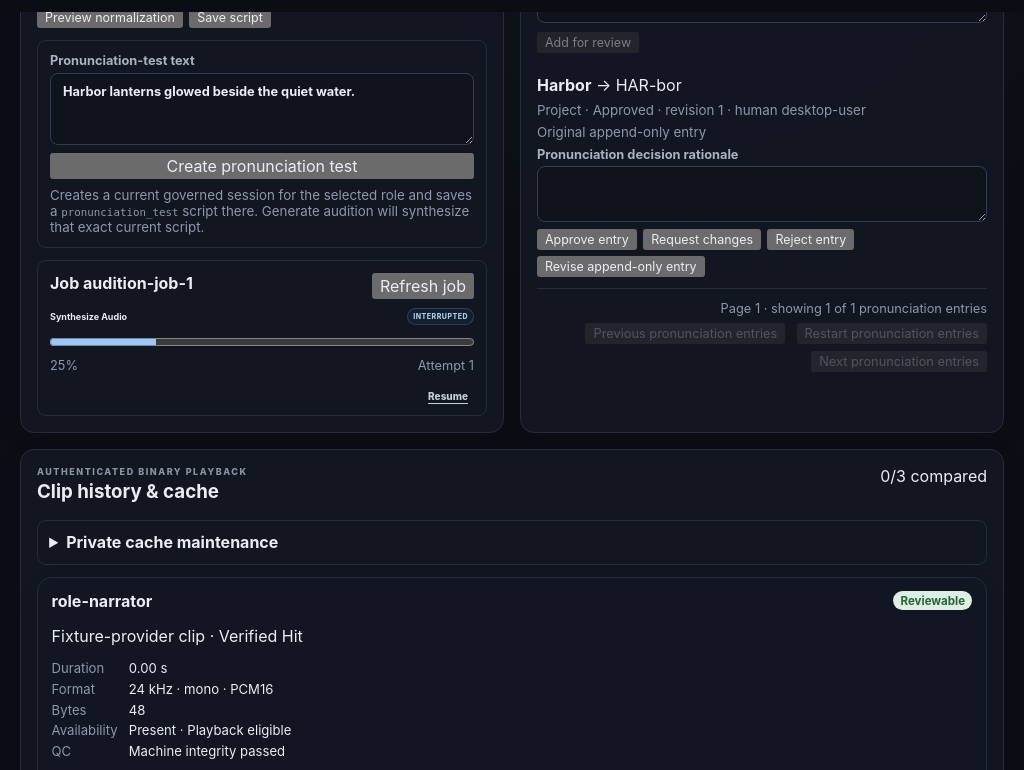
AuditionsWorkspace › renders current audition job evidence and handles resume with a bounded refresh
(page scrolled)
expect the text "Synthesize Audio" is shown: met, box top-left (50, 311), bottom-right (127, 322)
expect the text "25%" is shown: met, box top-left (50, 358), bottom-right (78, 374)
Click the button "Resume" at (448, 396), box top-left (422, 389), bottom-right (474, 403)
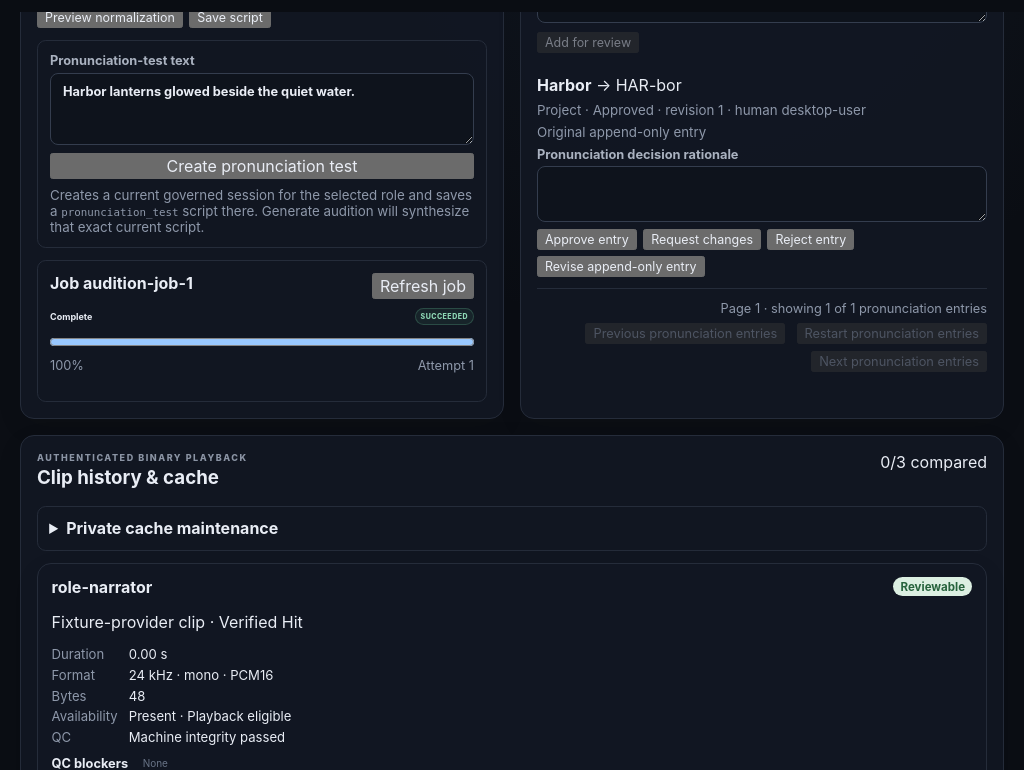
expect the text "Succeeded" is shown: met, box top-left (414, 308), bottom-right (474, 325)
